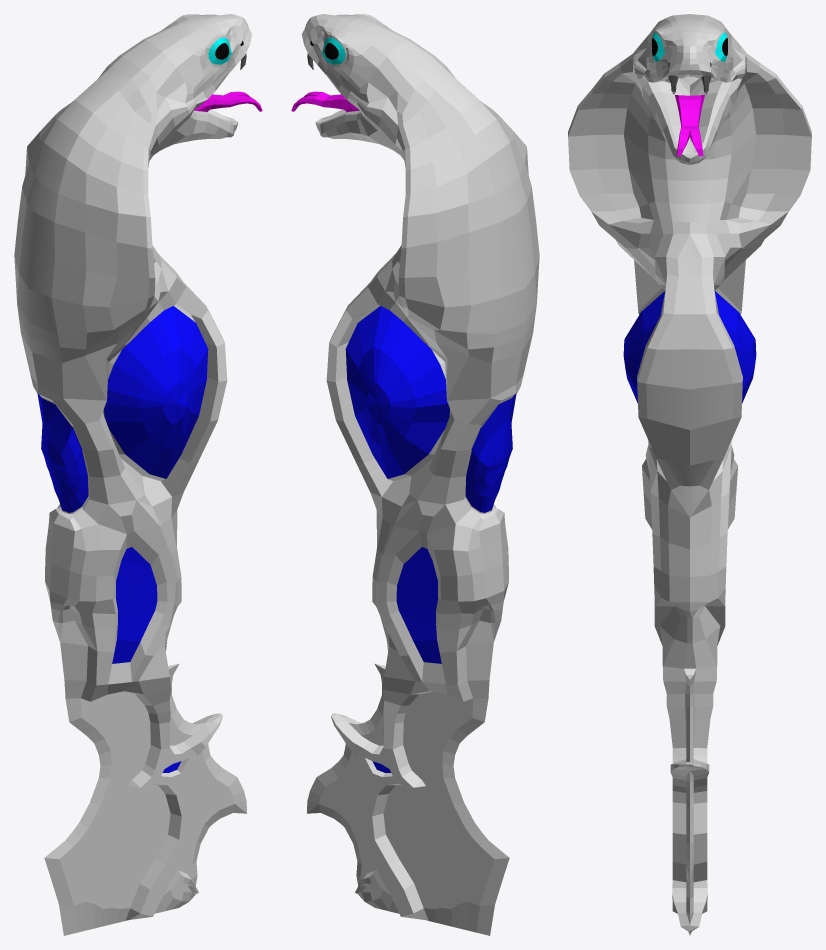
File: M_RoomMed_Snake.fbx
3 renders of one model, left to right at view 1: azimuth 30°, elevation 25°; view 2: azimuth 150°, elevation 25°; view 3: azimuth 270°, elevation 25°, orthographic. The views are drawn at different scales.
Visible parts, largest first — view 1: M_RoomMed_Snake; view 2: M_RoomMed_Snake; view 3: M_RoomMed_Snake.
Part boxes in pixels (x1,y1,x2,y2): M_RoomMed_Snake: [14, 14, 262, 935]; M_RoomMed_Snake: [291, 14, 539, 935]; M_RoomMed_Snake: [568, 14, 811, 935].
Size of the model in its own units: 7.96 by 29.48 by 7.08.
